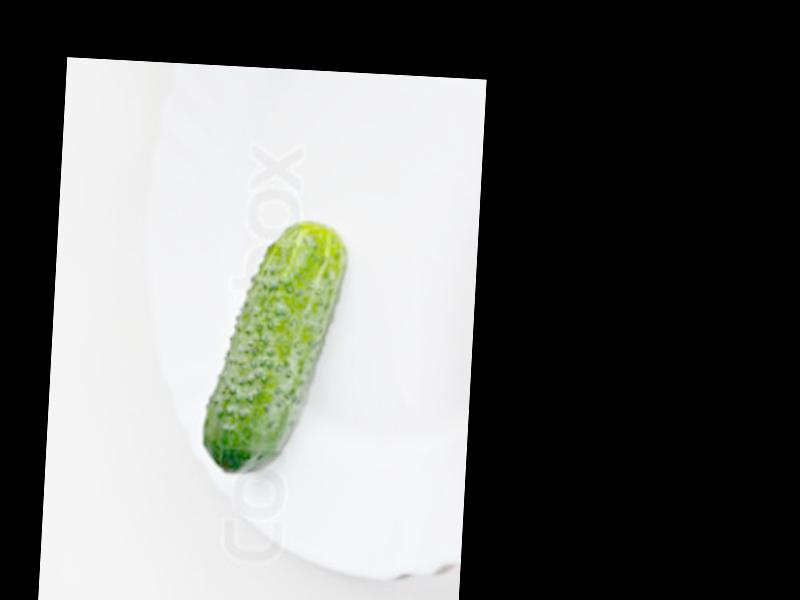Cucumber: (201, 217, 349, 476)
